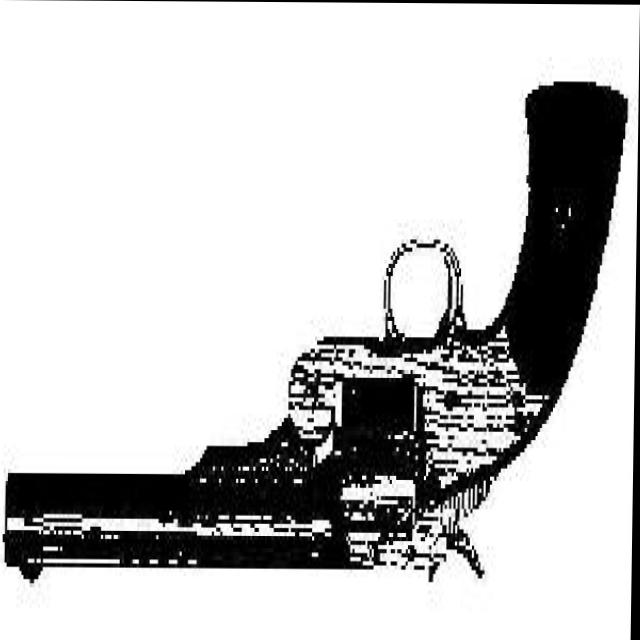handgun: (0, 73, 633, 591)
